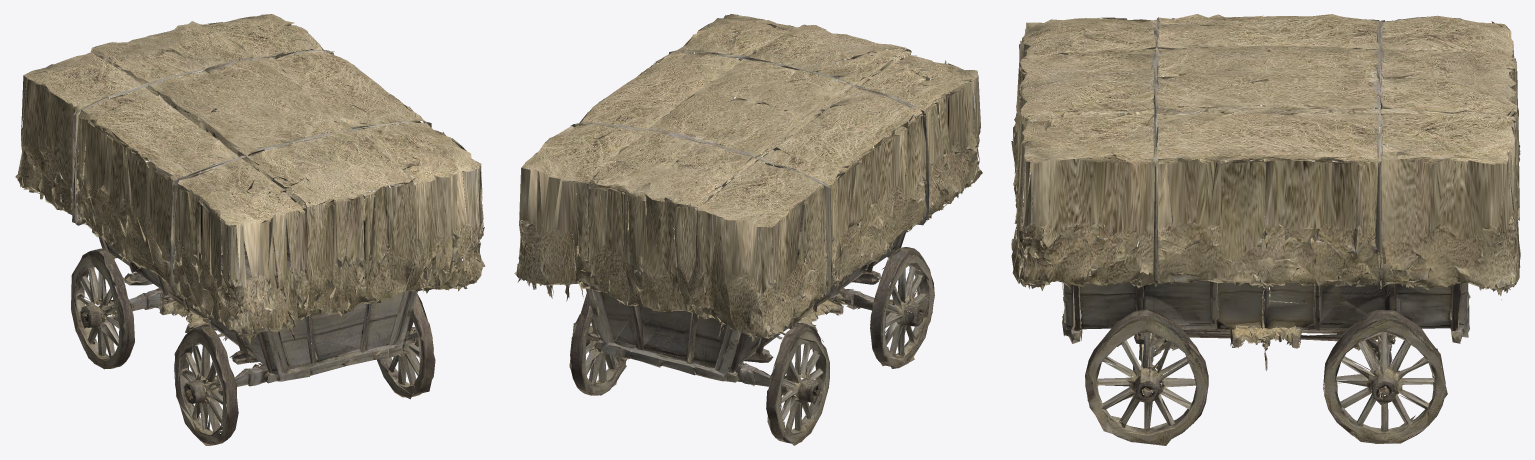
Rendered from hay-wain-loaded.glb.
3 views of the same model, side by side, from view 1: azimuth 30°, elevation 25°; view 2: azimuth 150°, elevation 25°; view 3: azimuth 270°, elevation 25° (orthographic). The views are drawn at different scales.
Parts seen in each view (by area): view 1: hay-wain-loaded; view 2: hay-wain-loaded; view 3: hay-wain-loaded.
Part boxes in pixels (left/top/right/bottom): hay-wain-loaded: left=15, top=14, right=484, bottom=445; hay-wain-loaded: left=514, top=14, right=982, bottom=445; hay-wain-loaded: left=1011, top=14, right=1520, bottom=445.
Size of the model in its own units: 2.21 by 2.21 by 3.2.
1 material, 1 textured.
